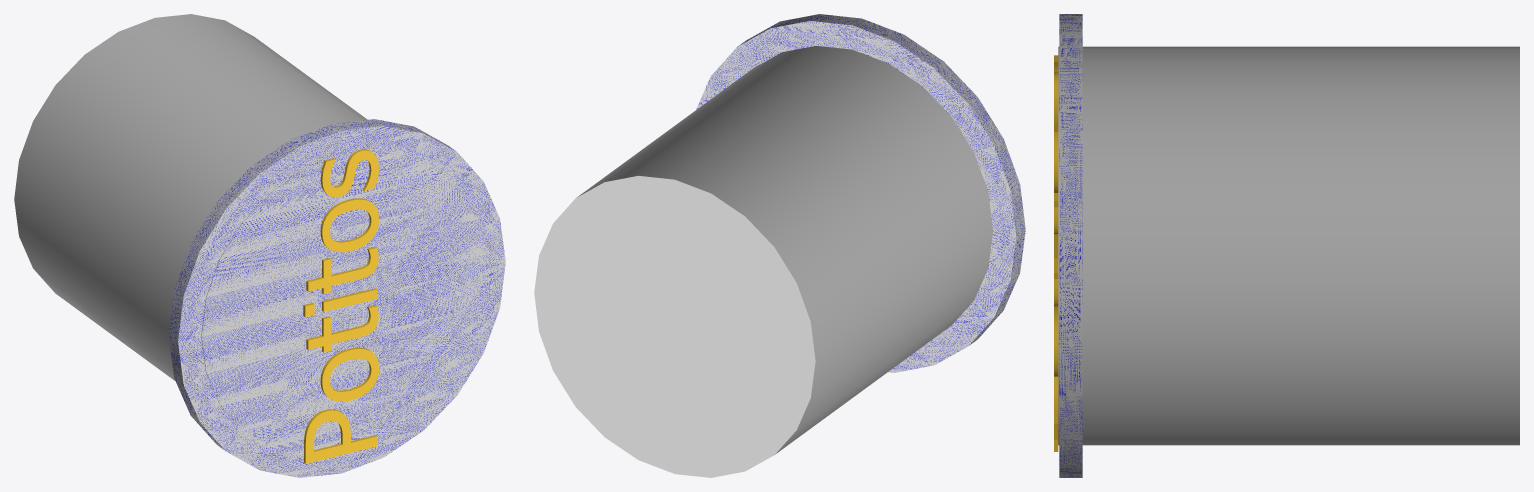
The model's file is model_scale.obj.
The picture shows the model from 3 angles, left to right: view 1: azimuth 30°, elevation 25°; view 2: azimuth 150°, elevation 25°; view 3: azimuth 270°, elevation 25°; orthographic projection. The views are drawn at different scales.
Parts seen in each view (by area): view 1: mesh24_mesh24-geometry, mesh1_mesh1-geometry, mesh2_mesh2-geometry, mesh7_mesh7-geometry, mesh8_mesh8-geometry, mesh3_mesh3-geometry, mesh6_mesh6-geometry, mesh4_mesh4-geometry; view 2: mesh24_mesh24-geometry; view 3: mesh24_mesh24-geometry.
Boxes of the visible parts, x1,y1,x2,y2 form: mesh24_mesh24-geometry: (14,14,505,477); mesh1_mesh1-geometry: (304,409,377,463); mesh2_mesh2-geometry: (320,347,379,401); mesh7_mesh7-geometry: (320,198,379,252); mesh8_mesh8-geometry: (320,149,378,197); mesh3_mesh3-geometry: (306,305,378,352); mesh6_mesh6-geometry: (306,246,378,294); mesh4_mesh4-geometry: (322,288,377,311); mesh24_mesh24-geometry: (534,14,1025,477); mesh24_mesh24-geometry: (1058,14,1519,477).
Bounding box in the file's own units: 0.1592 × 0.1592 × 0.1592.
